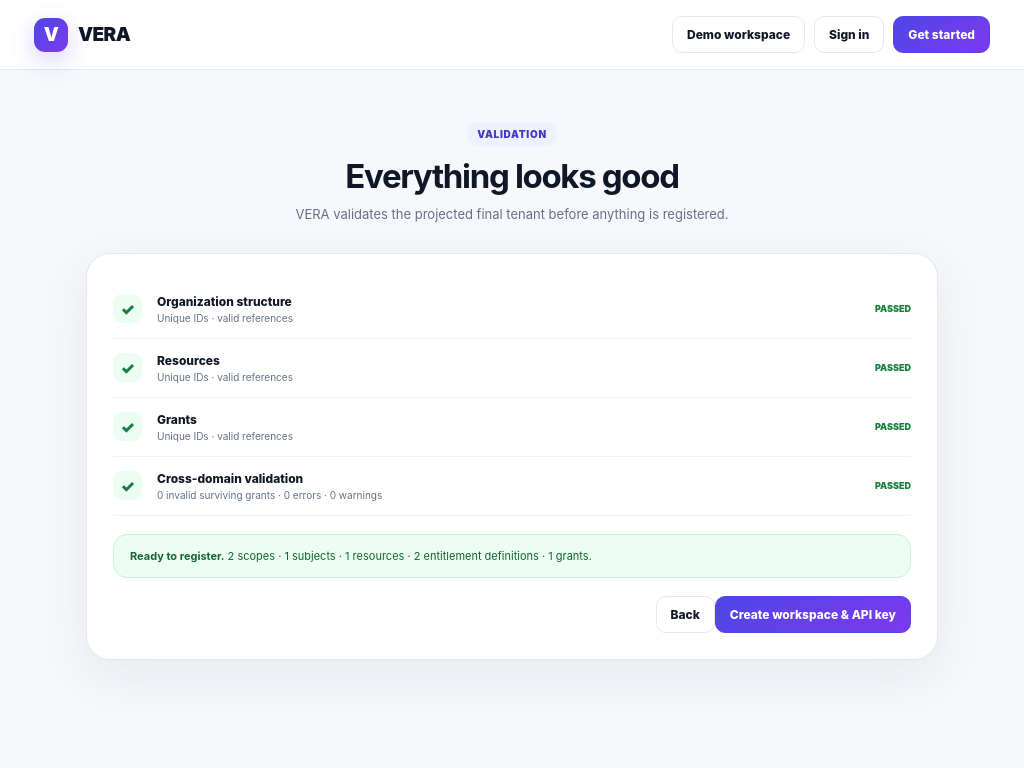
Test: final signup navigates to one-time API key page after draft is cleared
Step 1. Click the button "Create workspace & API key" → [813, 614], box [715,596,911,633]
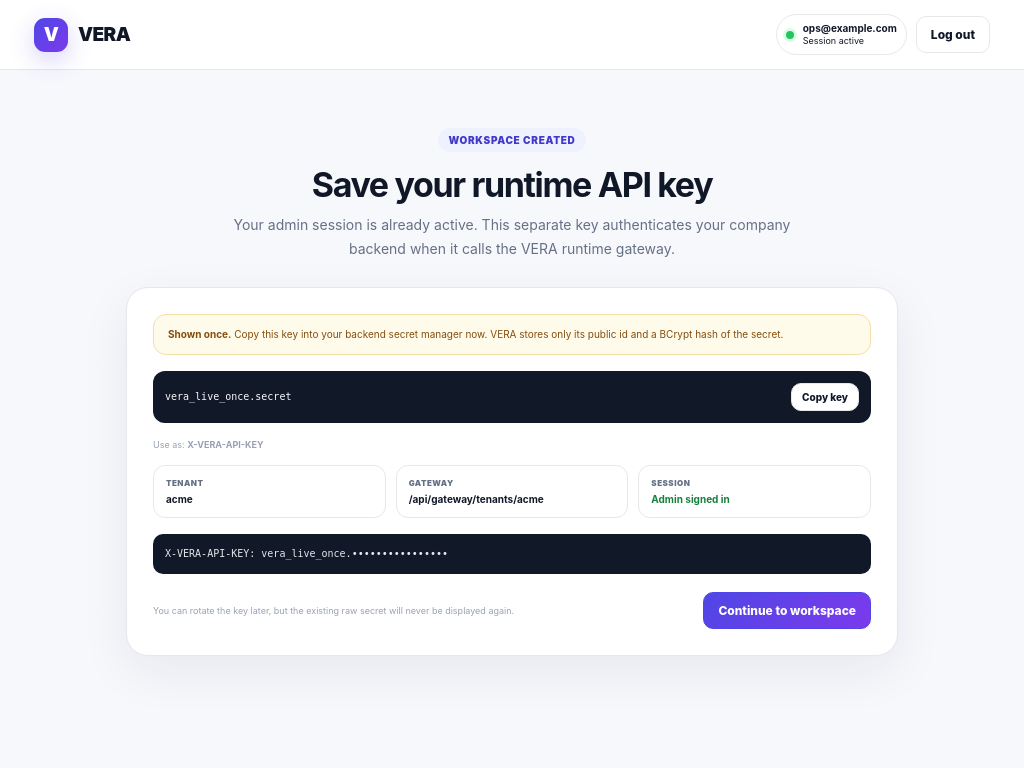
Expected: the text "vera_live_once.secret" is shown, [165,391,291,402]
